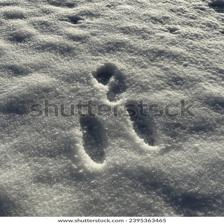rabbit: (66, 61, 163, 170)
